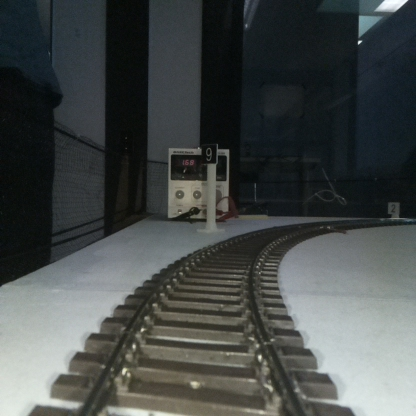black-info-9: (201, 144, 216, 232)
white-stop-2: (388, 201, 399, 217)
